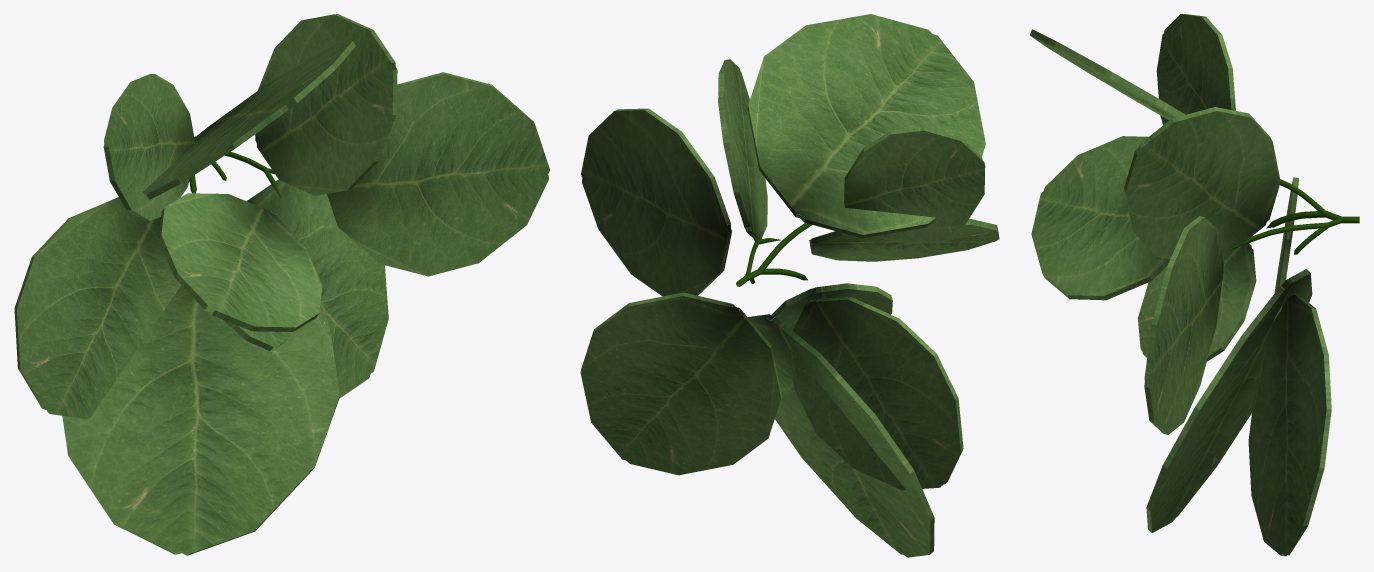
The model's file is plant7.obj.
The picture shows the model from 3 angles, left to right: view 1: azimuth 30°, elevation 25°; view 2: azimuth 150°, elevation 25°; view 3: azimuth 270°, elevation 25°; orthographic projection. The views are drawn at different scales.
Parts seen in each view (by area): view 1: leaves.003; view 2: leaves.003, tree.003; view 3: leaves.003, tree.003.
Part boxes in pixels (x1,y1,x2,y2): leaves.003: (14,14,549,555); leaves.003: (580,14,999,557); tree.003: (736,223,812,286); leaves.003: (1029,14,1331,556); tree.003: (1230,179,1359,254).
Bounding box in the file's own units: 0.0996 × 0.104 × 0.0593.
Materials: 2 (2 with a texture image).
